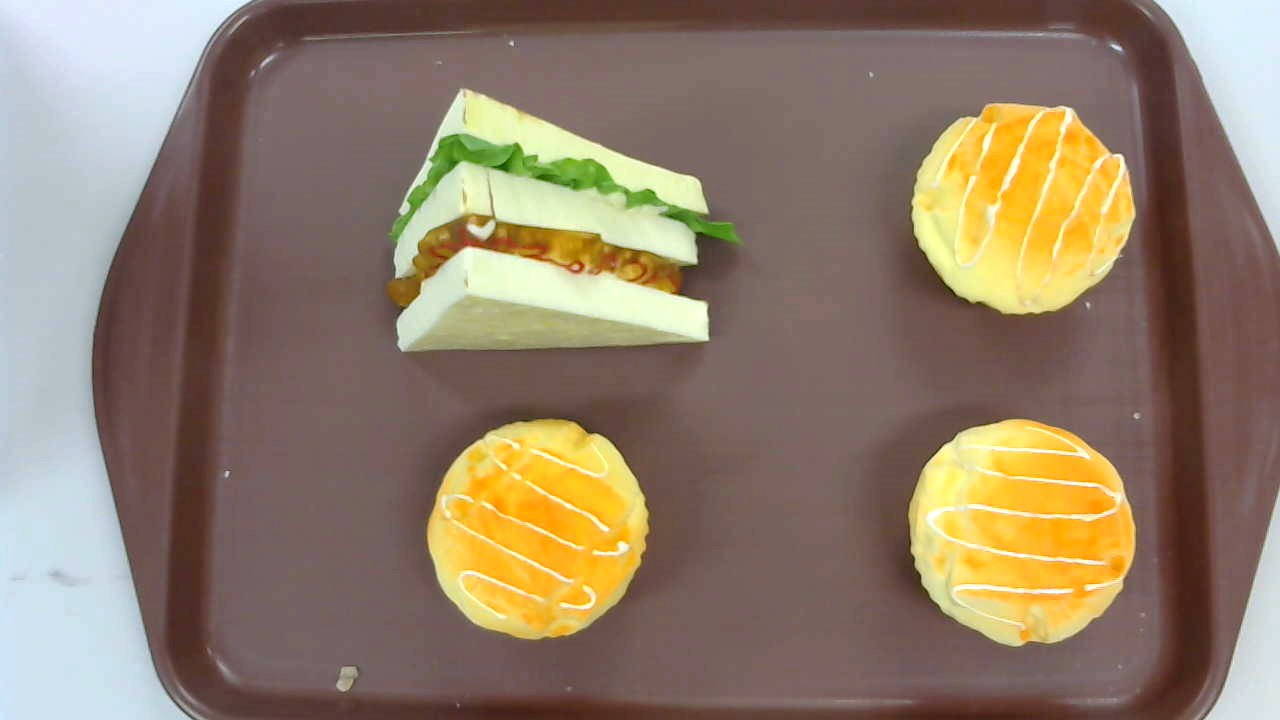cupcake: (908, 417, 1137, 650), (426, 418, 651, 641), (910, 99, 1136, 316)
sandwich: (385, 87, 743, 353)
